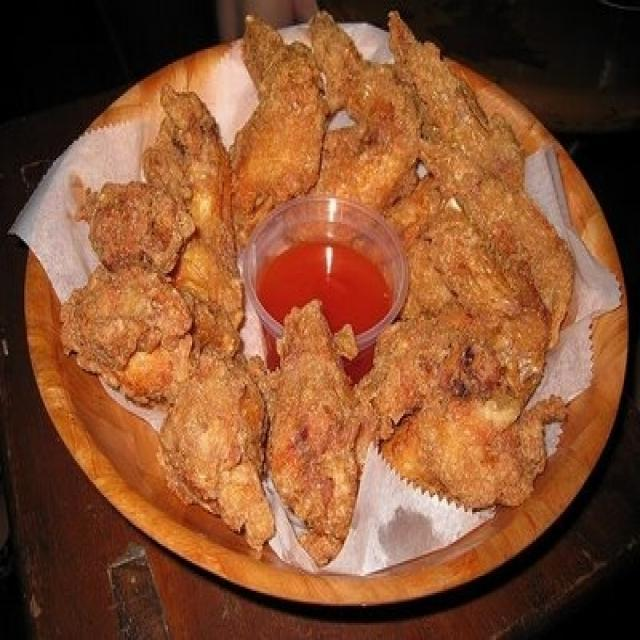Deep fried chicken wing: (72, 28, 578, 542)
